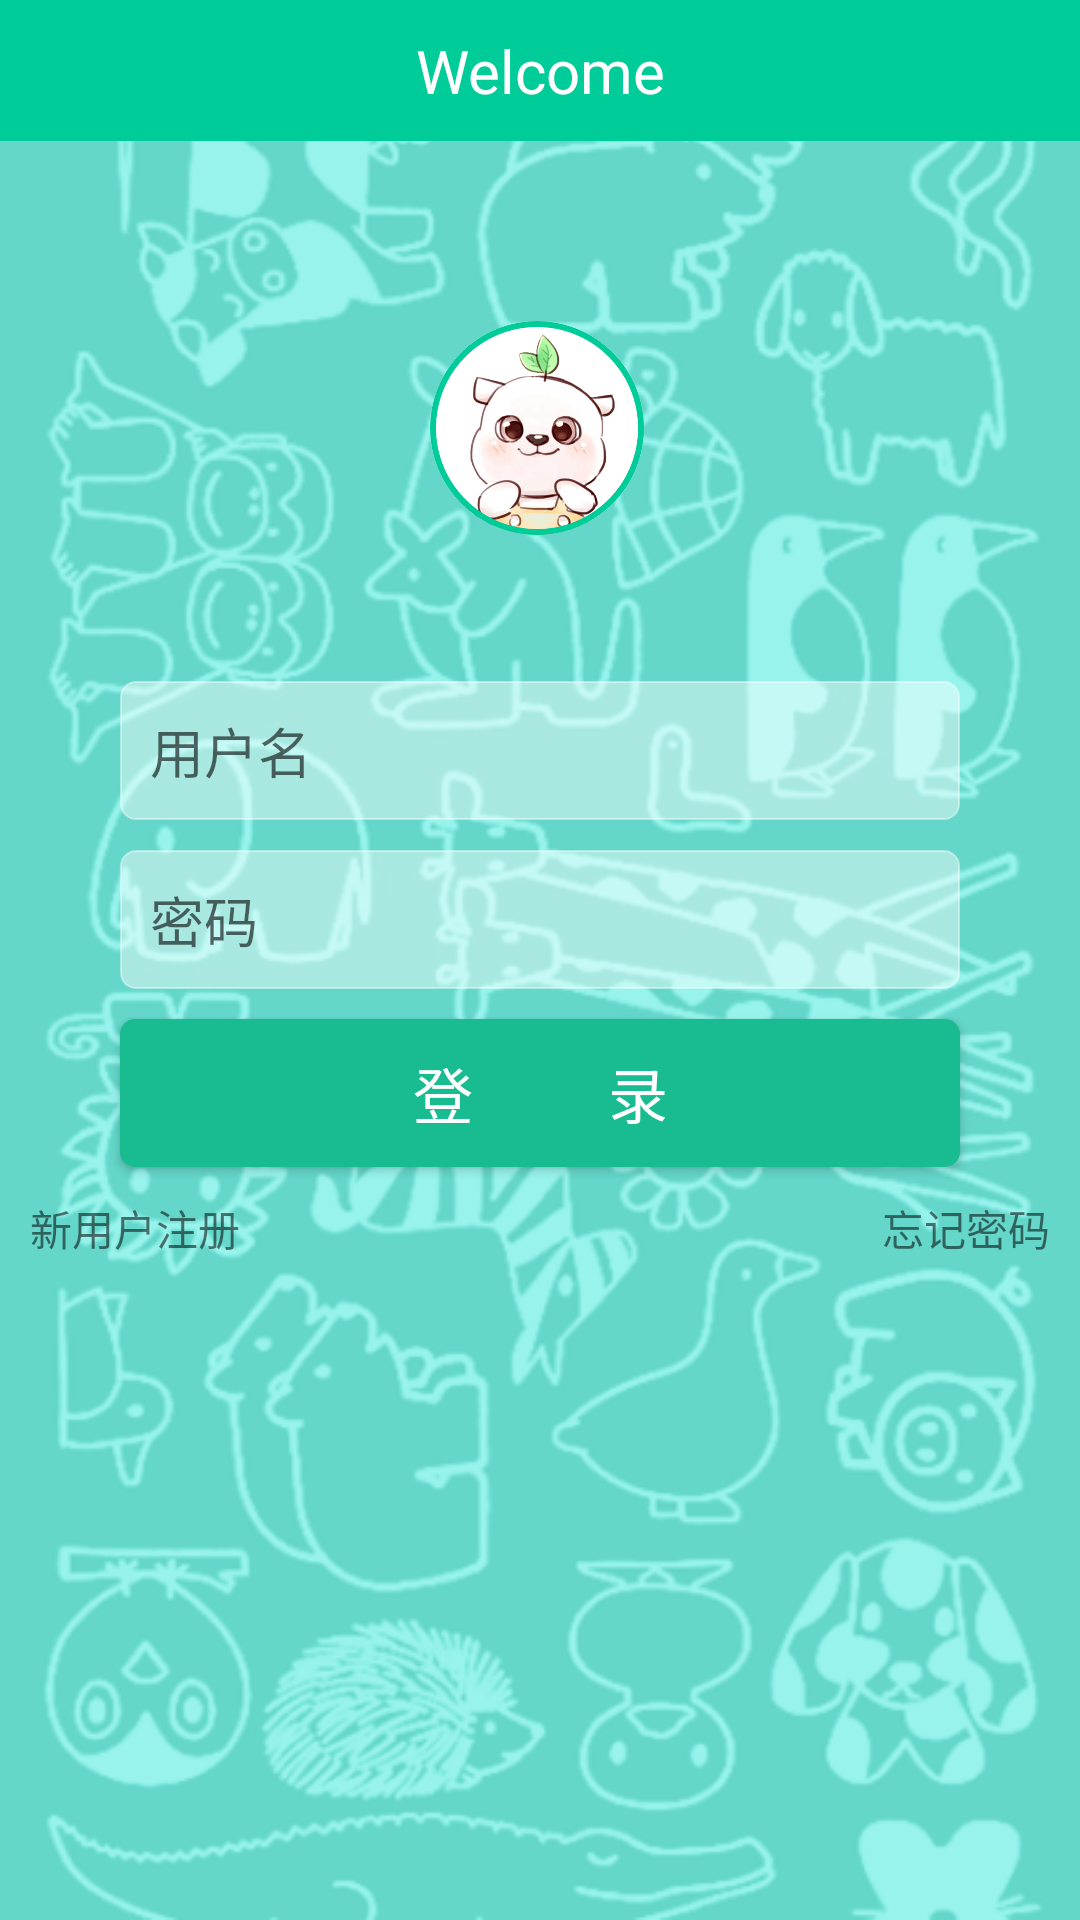

Screen size 1080x1920. Icon name, then its center in pixels as (x,y):
head: (540,426)
